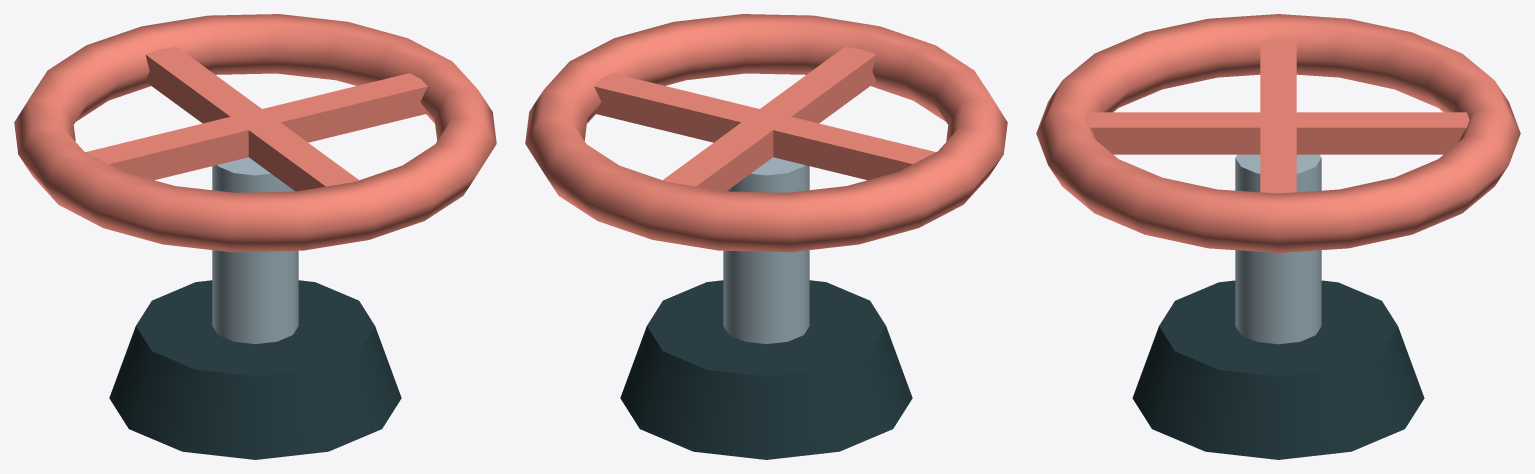
Rendered from valve-wheel.glb.
3 renders of one model, left to right at view 1: azimuth 30°, elevation 25°; view 2: azimuth 150°, elevation 25°; view 3: azimuth 270°, elevation 25°, orthographic.
Visible parts, largest first — view 1: wheel, base, spoke-x, stem, spoke-z; view 2: wheel, base, spoke-x, stem, spoke-z; view 3: wheel, base, spoke-z, stem, spoke-x.
Part boxes in pixels (bbox=[...]): wheel: bbox=[14, 14, 496, 252]; base: bbox=[109, 280, 401, 459]; spoke-x: bbox=[86, 73, 427, 180]; stem: bbox=[212, 157, 298, 343]; spoke-z: bbox=[145, 47, 358, 191]; wheel: bbox=[525, 14, 1007, 252]; base: bbox=[620, 280, 912, 459]; spoke-x: bbox=[594, 73, 935, 180]; stem: bbox=[723, 157, 809, 343]; spoke-z: bbox=[663, 47, 876, 191]; wheel: bbox=[1036, 14, 1520, 252]; base: bbox=[1132, 280, 1424, 459]; spoke-z: bbox=[1087, 112, 1469, 154]; stem: bbox=[1235, 154, 1321, 344]; spoke-x: bbox=[1260, 39, 1296, 193].
Bounding box in the file's own units: 0.73 × 0.479 × 0.73.
